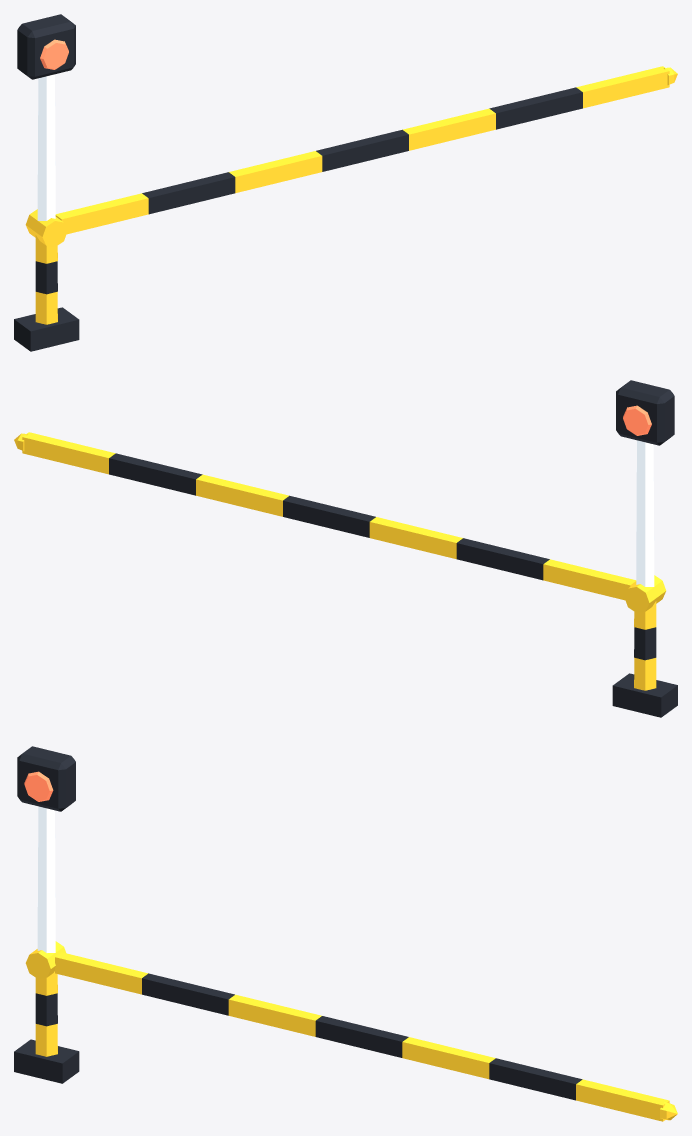
The model's file is crossing-bar-iron.glb.
The picture shows the model from 3 angles, top to bottom: view 1: azimuth 30°, elevation 25°; view 2: azimuth 150°, elevation 25°; view 3: azimuth 330°, elevation 25°; orthographic projection.
Visible parts, largest first — view 1: crossing-bar-iron; view 2: crossing-bar-iron; view 3: crossing-bar-iron.
Part boxes in pixels (x1=…): crossing-bar-iron: x1=14, y1=14, x2=677, y2=351; crossing-bar-iron: x1=14, y1=380, x2=677, y2=717; crossing-bar-iron: x1=14, y1=746, x2=677, y2=1121.
Bounding box in the file's own units: 6.75 × 3.12 × 0.34.
